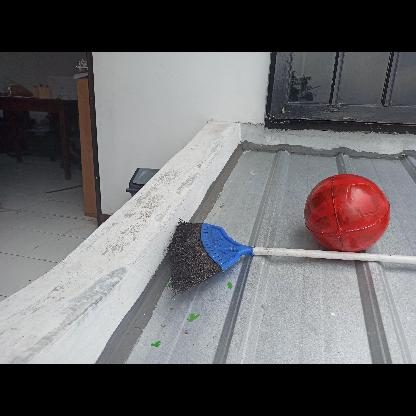red_ball: (306, 169, 390, 254)
